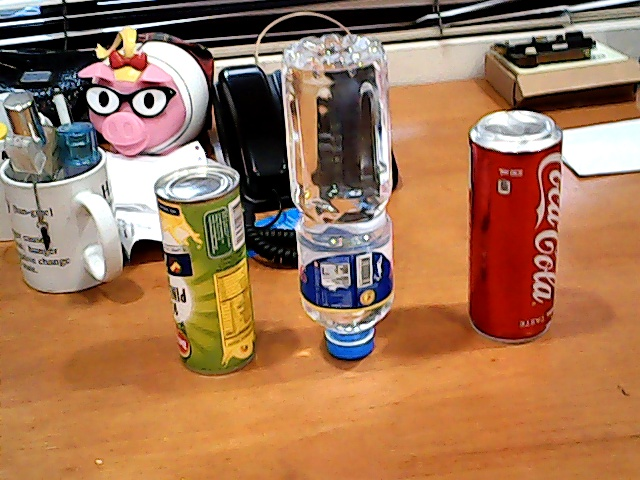Cola: (450, 91, 582, 352)
Pine Juice: (135, 150, 271, 383)
Summit Water: (283, 29, 423, 362)
